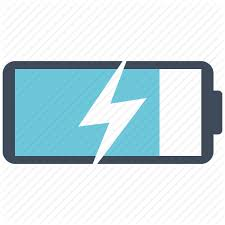charging sign: (3, 58, 225, 171)
